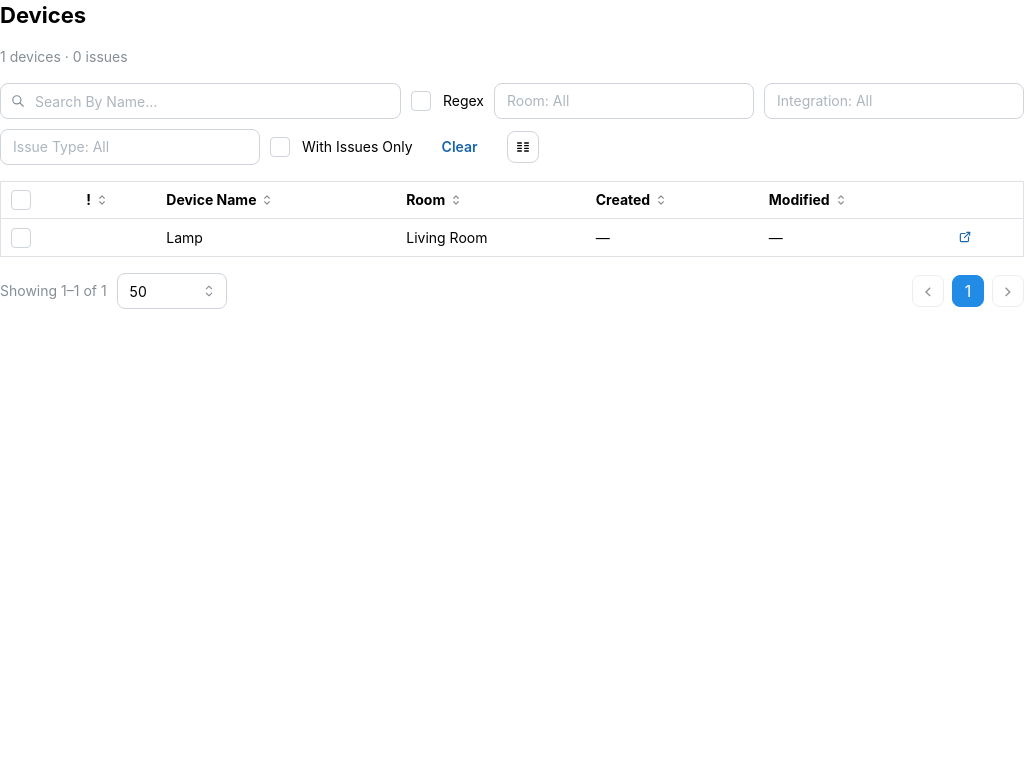
Test case: DevicesPage › opens the edit drawer when a row is clicked
What coordinates should you click on to do the following:
click the text "Lamp"
I would click on:
 (185, 237)
Its box is 156,218 -> 396,257.
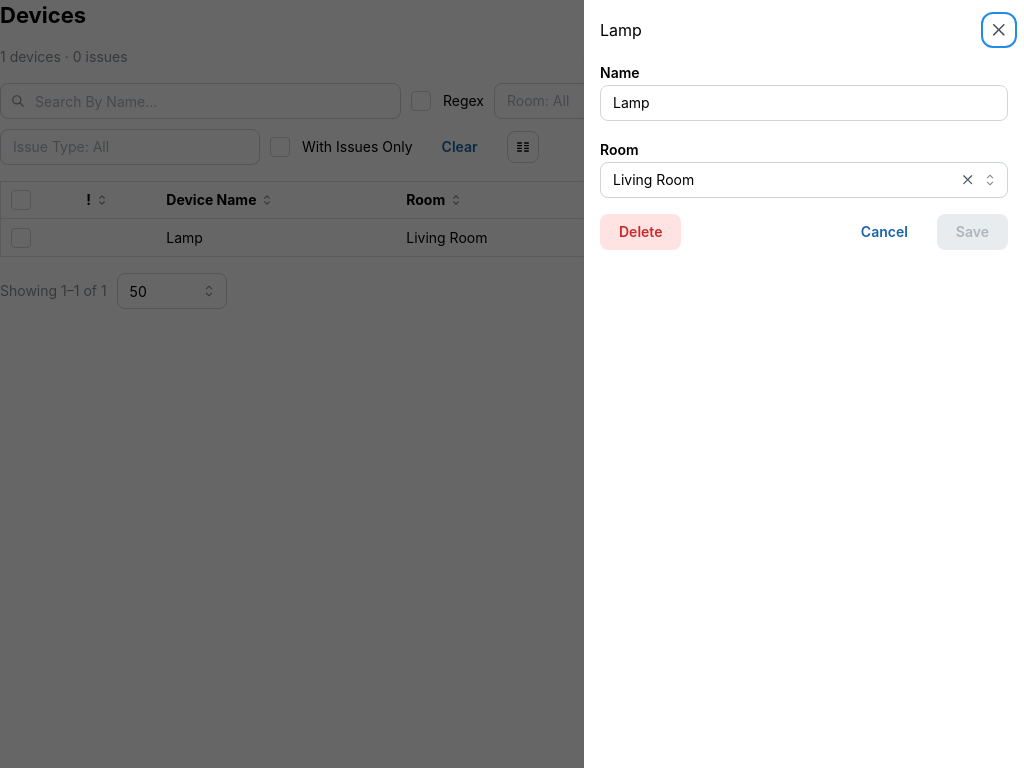
Now the field labelled "Name" holds "Lamp", box 600,85 -> 1008,121
